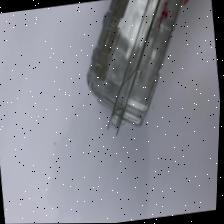plastic: (86, 0, 185, 134)
